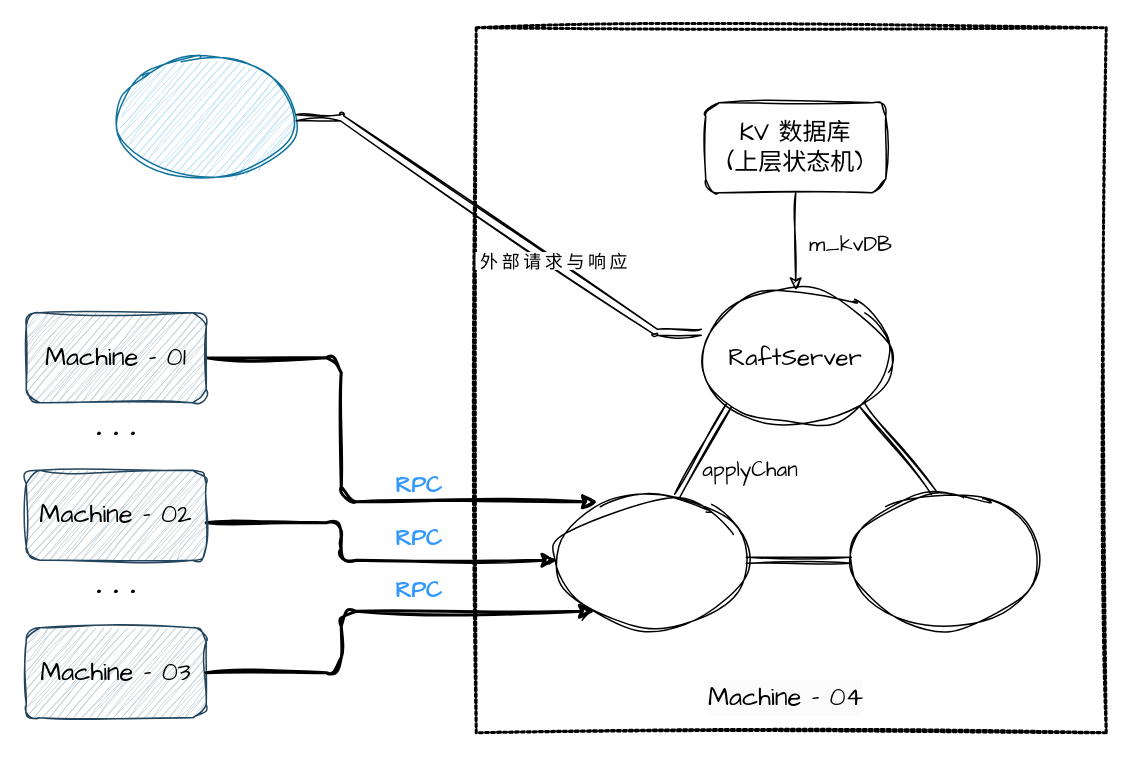
This 1134x759 diagram has some shape labels left out. Each missing label, with the box of its shape:
Clerk: (115, 56, 296, 178)
Raft 节点: (556, 491, 746, 628)
持久化层: (850, 491, 1040, 628)
